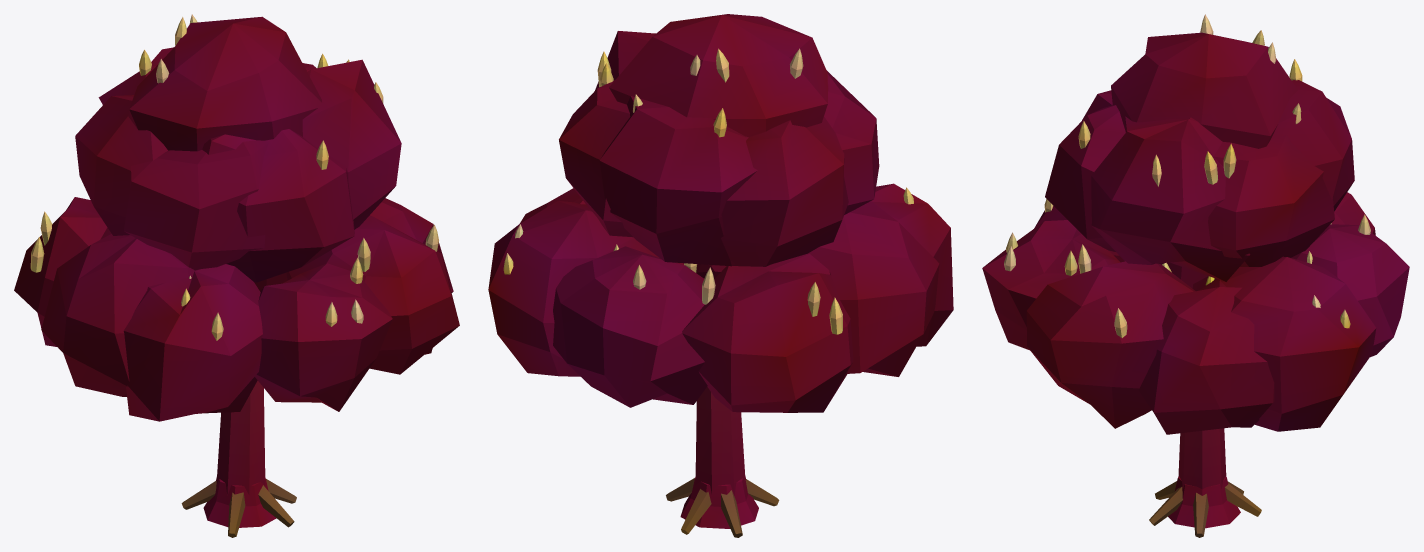
The model's file is Tree_Chestnut_01.glb.
3 renders of one model, left to right at view 1: azimuth 30°, elevation 25°; view 2: azimuth 150°, elevation 25°; view 3: azimuth 270°, elevation 25°, orthographic. The views are drawn at different scales.
Parts seen in each view (by area): view 1: Tree_Chestnut_01; view 2: Tree_Chestnut_01; view 3: Tree_Chestnut_01.
Part boxes in pixels (box(x1,y1,x2,y2)): Tree_Chestnut_01: box(14, 14, 459, 537); Tree_Chestnut_01: box(488, 14, 953, 537); Tree_Chestnut_01: box(982, 14, 1409, 537).
Bounding box in the file's own units: 6.84 × 8.46 × 6.85.
